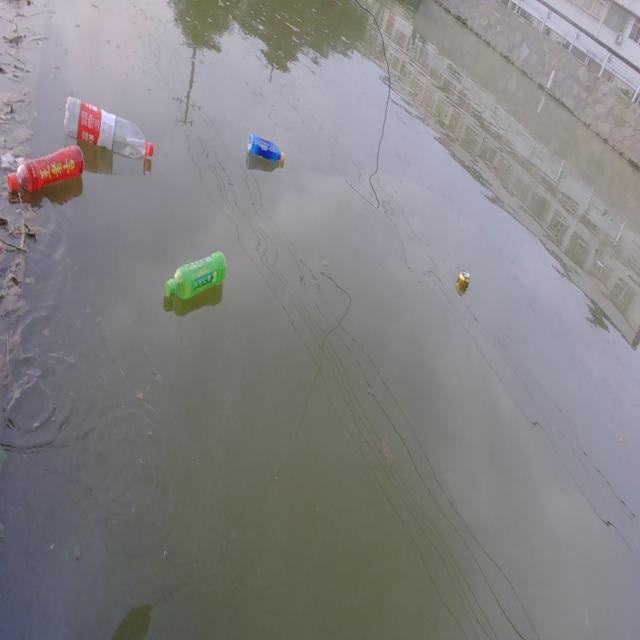Bottle: (63, 86, 164, 160), (5, 142, 88, 196), (164, 249, 230, 308), (246, 128, 288, 170)
Can: (452, 257, 473, 298)
